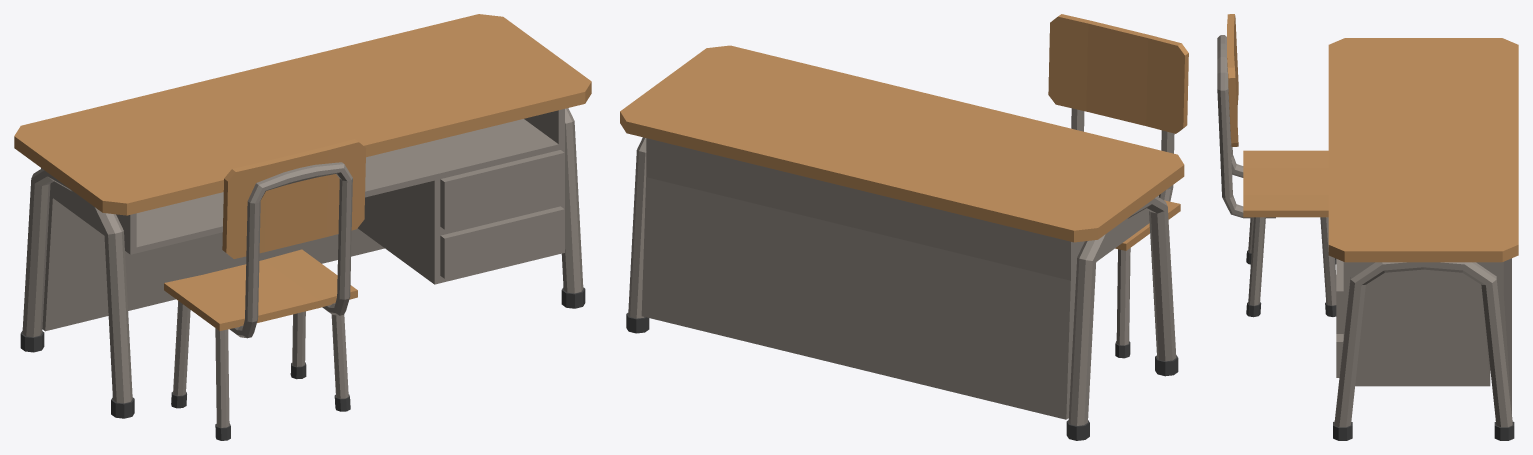
The model's file is TableChairTeacherfbx.fbx.
The picture shows the model from 3 angles, left to right: view 1: azimuth 30°, elevation 25°; view 2: azimuth 150°, elevation 25°; view 3: azimuth 270°, elevation 25°; orthographic projection. The views are drawn at different scales.
Parts seen in each view (by area): view 1: Table.016, Chair.016; view 2: Table.016, Chair.016; view 3: Table.016, Chair.016.
Part boxes in pixels (x1,y1,x2,y2): Table.016: (14, 14, 591, 418); Chair.016: (164, 139, 366, 440); Table.016: (620, 45, 1184, 440); Chair.016: (1048, 14, 1188, 358); Table.016: (1328, 38, 1518, 440); Chair.016: (1217, 14, 1336, 317).
Size of the model in its own units: 170 by 91.99 by 101.
